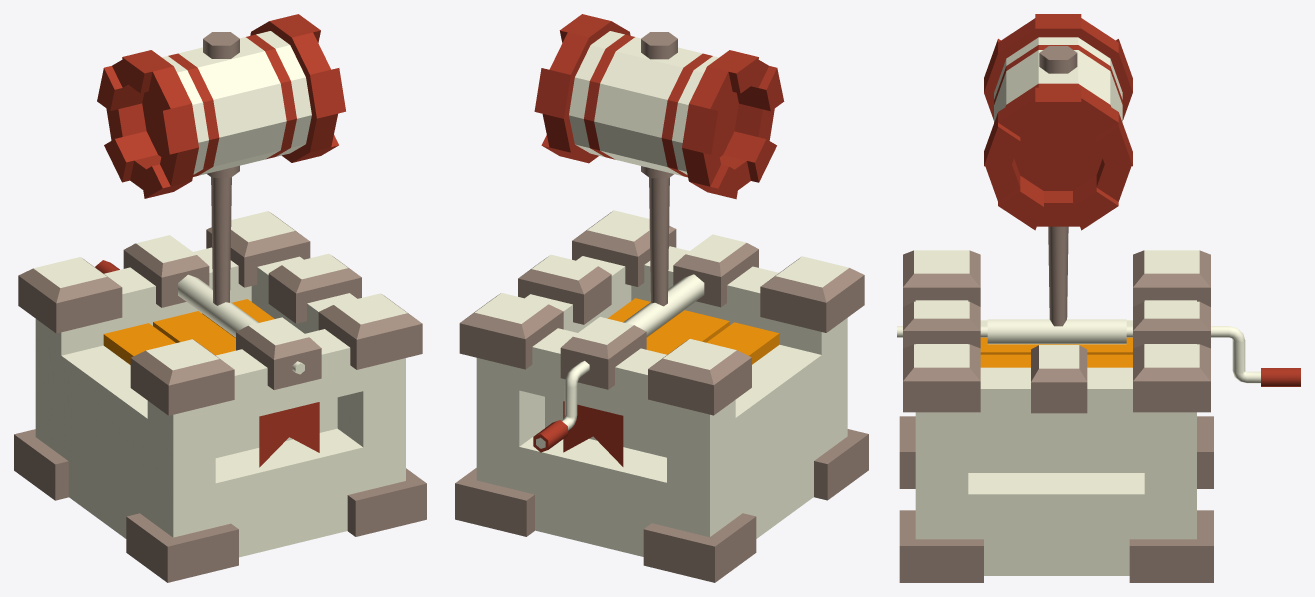
The model's file is hammer-model2.fbx.
3 views of the same model, side by side, from view 1: azimuth 30°, elevation 25°; view 2: azimuth 150°, elevation 25°; view 3: azimuth 270°, elevation 25° (orthographic). The views are drawn at different scales.
Parts seen in each view (by area): view 1: hammer-model2, hammer-model2.01; view 2: hammer-model2, hammer-model2.01, hammer-model2.02; view 3: hammer-model2, hammer-model2.01, hammer-model2.02.
Boxes of the visible parts, x1,y1,x2,y2 form: hammer-model2: [14, 211, 426, 582]; hammer-model2.01: [97, 14, 345, 374]; hammer-model2: [455, 210, 868, 582]; hammer-model2.01: [534, 14, 784, 336]; hammer-model2.02: [533, 361, 589, 452]; hammer-model2: [899, 250, 1213, 582]; hammer-model2.01: [897, 14, 1132, 344]; hammer-model2.02: [1126, 326, 1300, 386].
Bounding box in the file's own units: 2.35 × 3.94 × 3.1.
